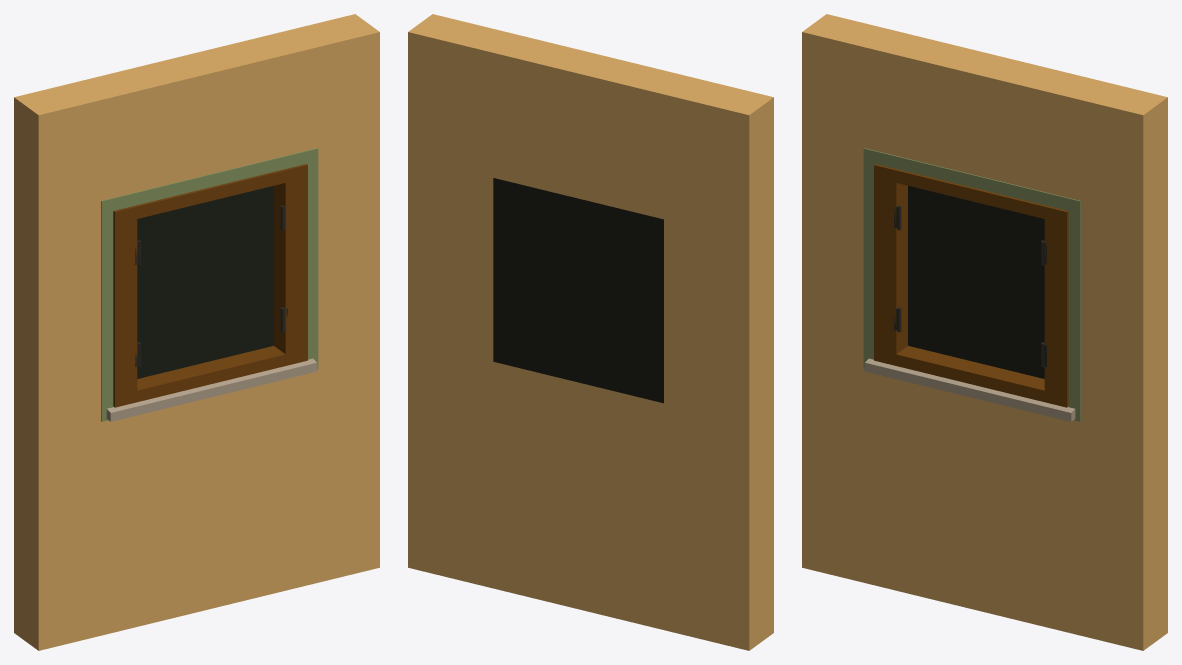
The model's file is SM_Wall_PhWindowBay_01.fbx.
3 renders of one model, left to right at view 1: azimuth 30°, elevation 25°; view 2: azimuth 150°, elevation 25°; view 3: azimuth 330°, elevation 25°, orthographic.
Parts seen in each view (by area): view 1: SM_Wall_PhWindowBay_01; view 2: SM_Wall_PhWindowBay_01; view 3: SM_Wall_PhWindowBay_01.
Boxes of the visible parts, left/top/right/bottom form: SM_Wall_PhWindowBay_01: left=14, top=14, right=379, bottom=650; SM_Wall_PhWindowBay_01: left=408, top=14, right=773, bottom=650; SM_Wall_PhWindowBay_01: left=802, top=14, right=1167, bottom=650.
Bounding box in the file's own units: 2 × 3 × 0.298.
Materials: 1 (1 with a texture image).
